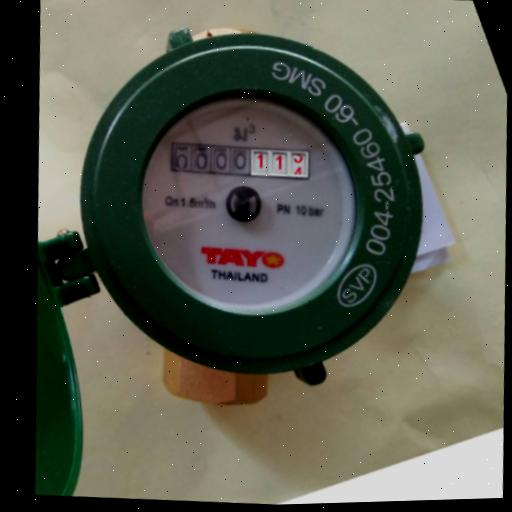0: (172, 145, 190, 171), (211, 147, 229, 172), (191, 146, 208, 171), (231, 149, 247, 173)
1: (252, 152, 268, 174), (270, 153, 286, 174)
3: (289, 153, 305, 176)
border_water_meter_number: (169, 138, 311, 185)
